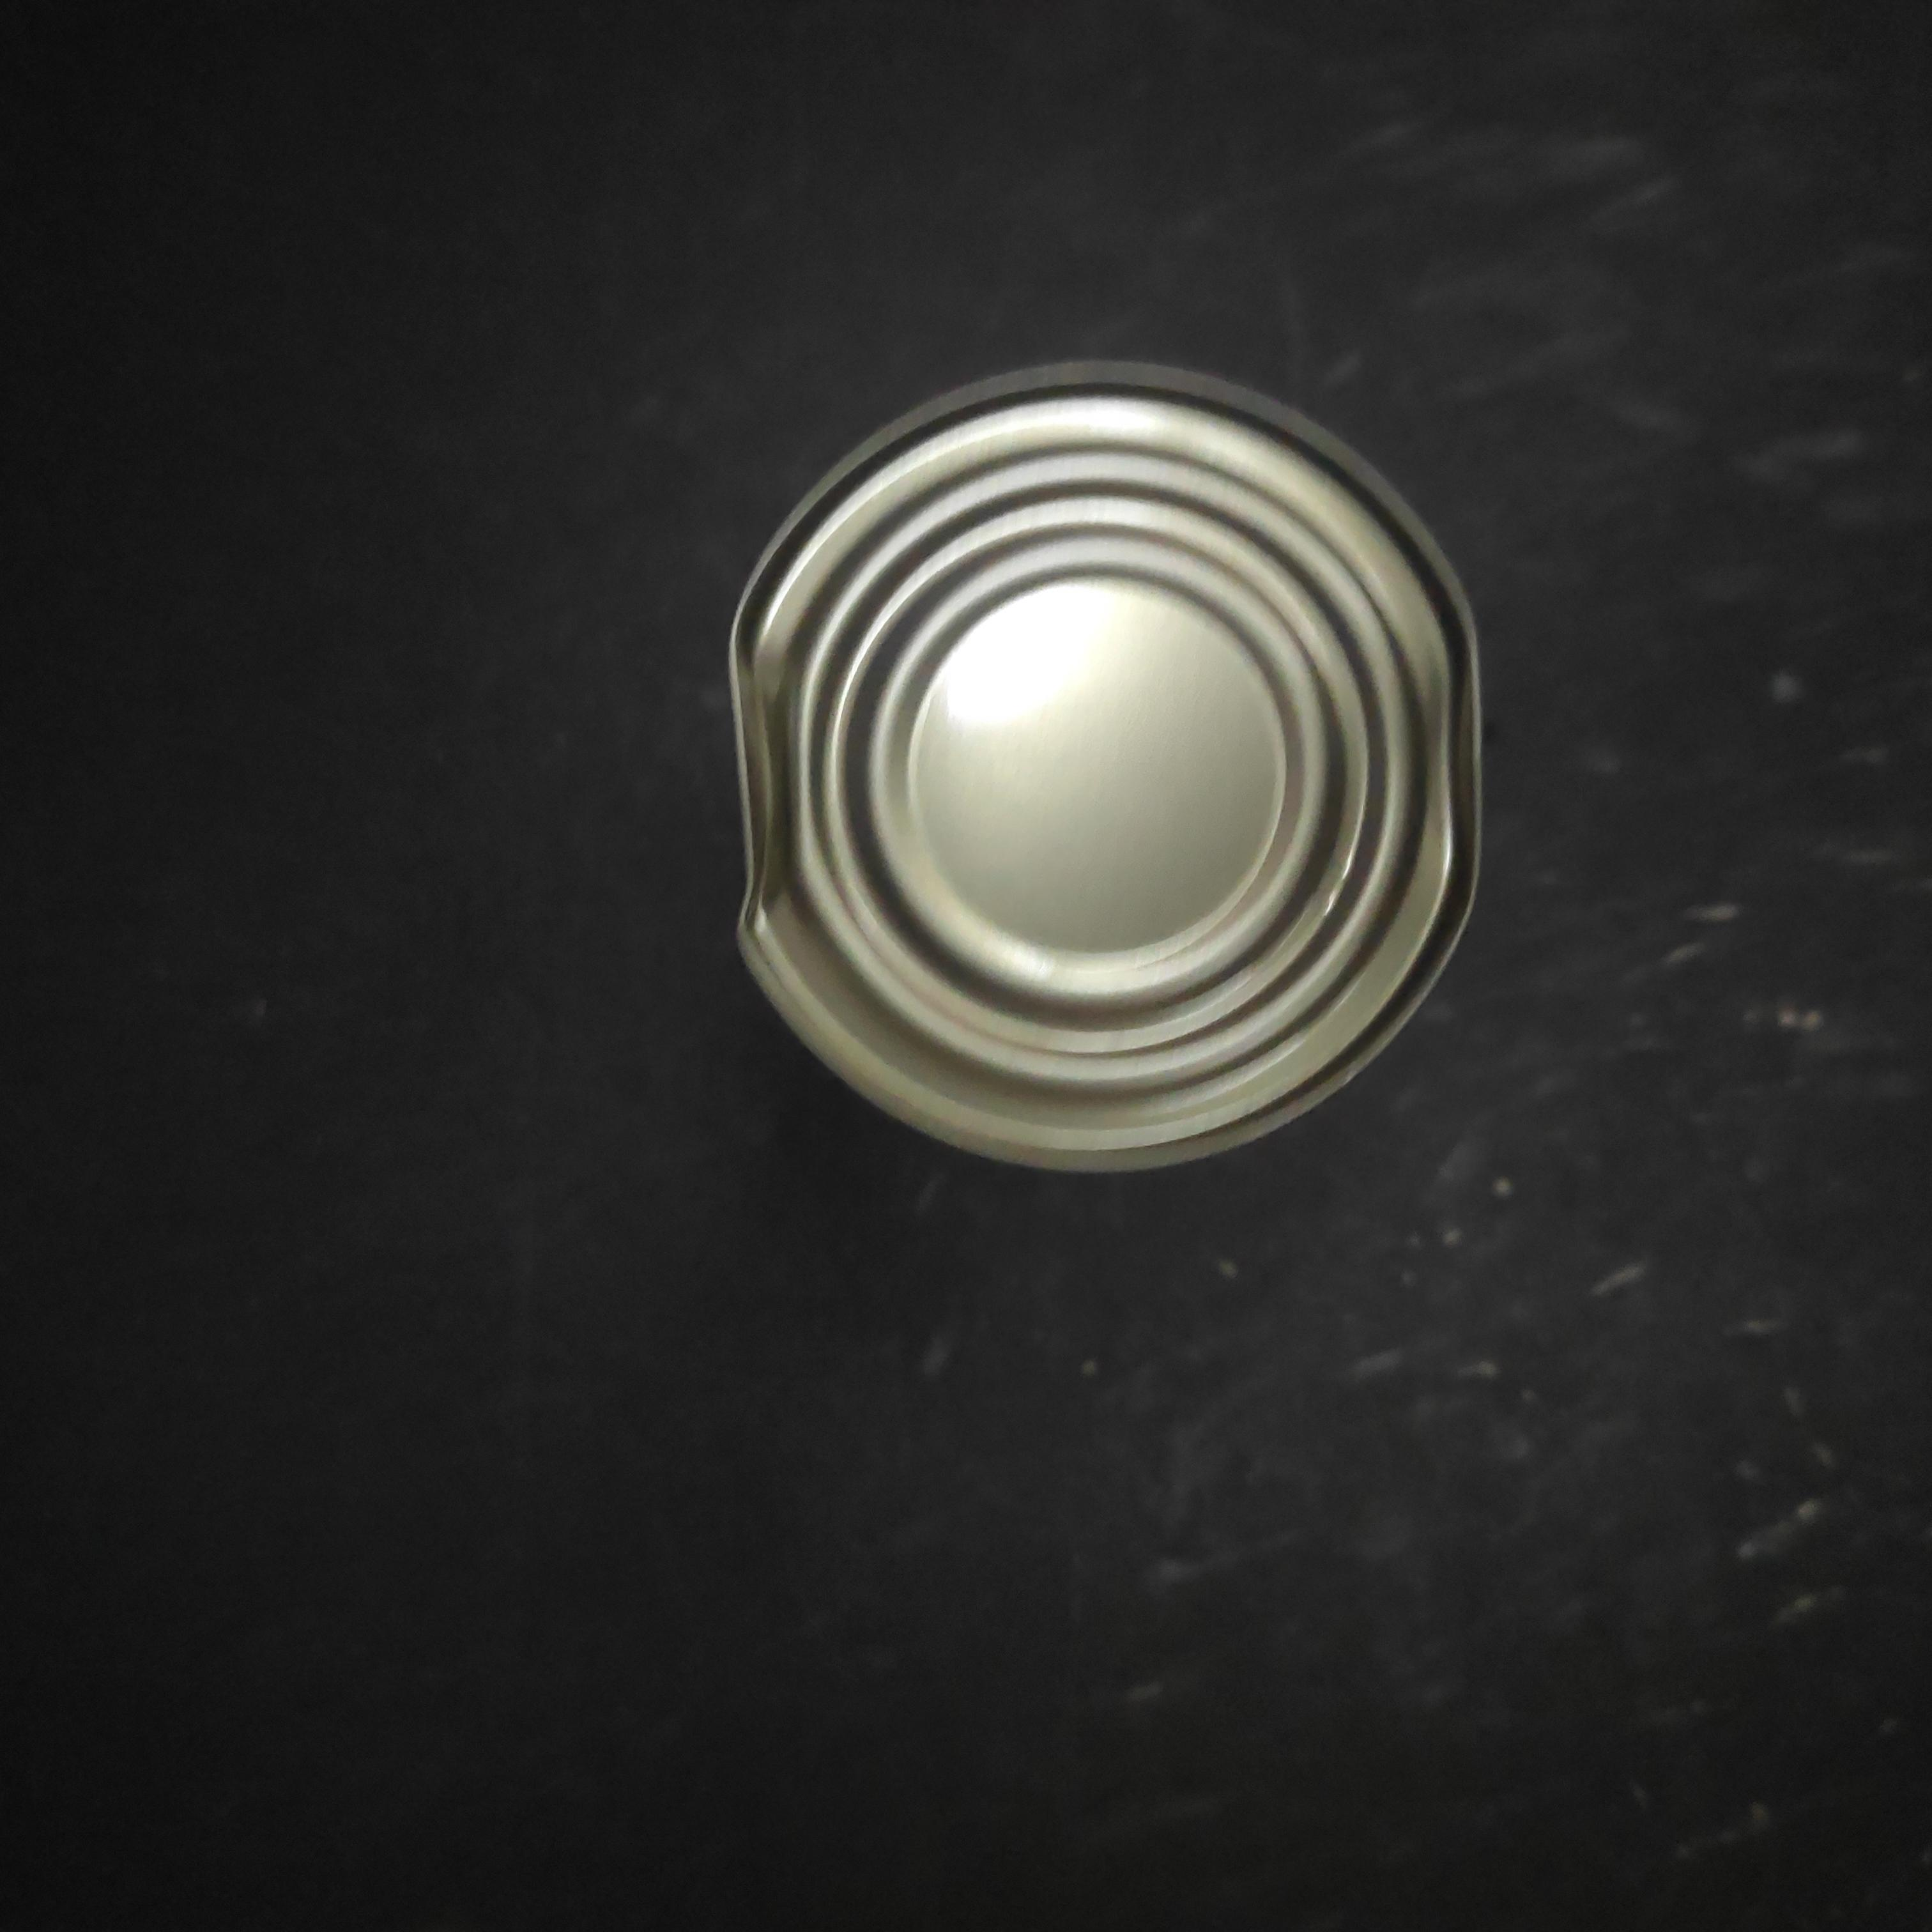Minor Defect: (435, 741, 1226, 1592)
